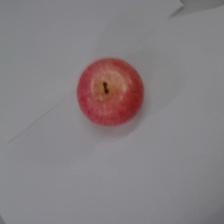red: (75, 56, 146, 129)
